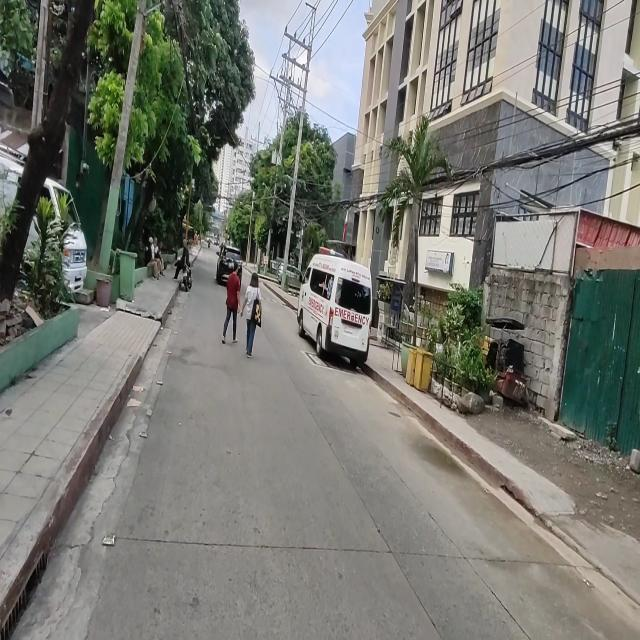emergency-vehicle: (291, 236, 375, 373), (330, 297, 370, 332), (305, 295, 329, 321)
